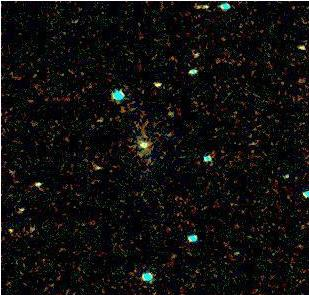star: (0, 214, 23, 244)
